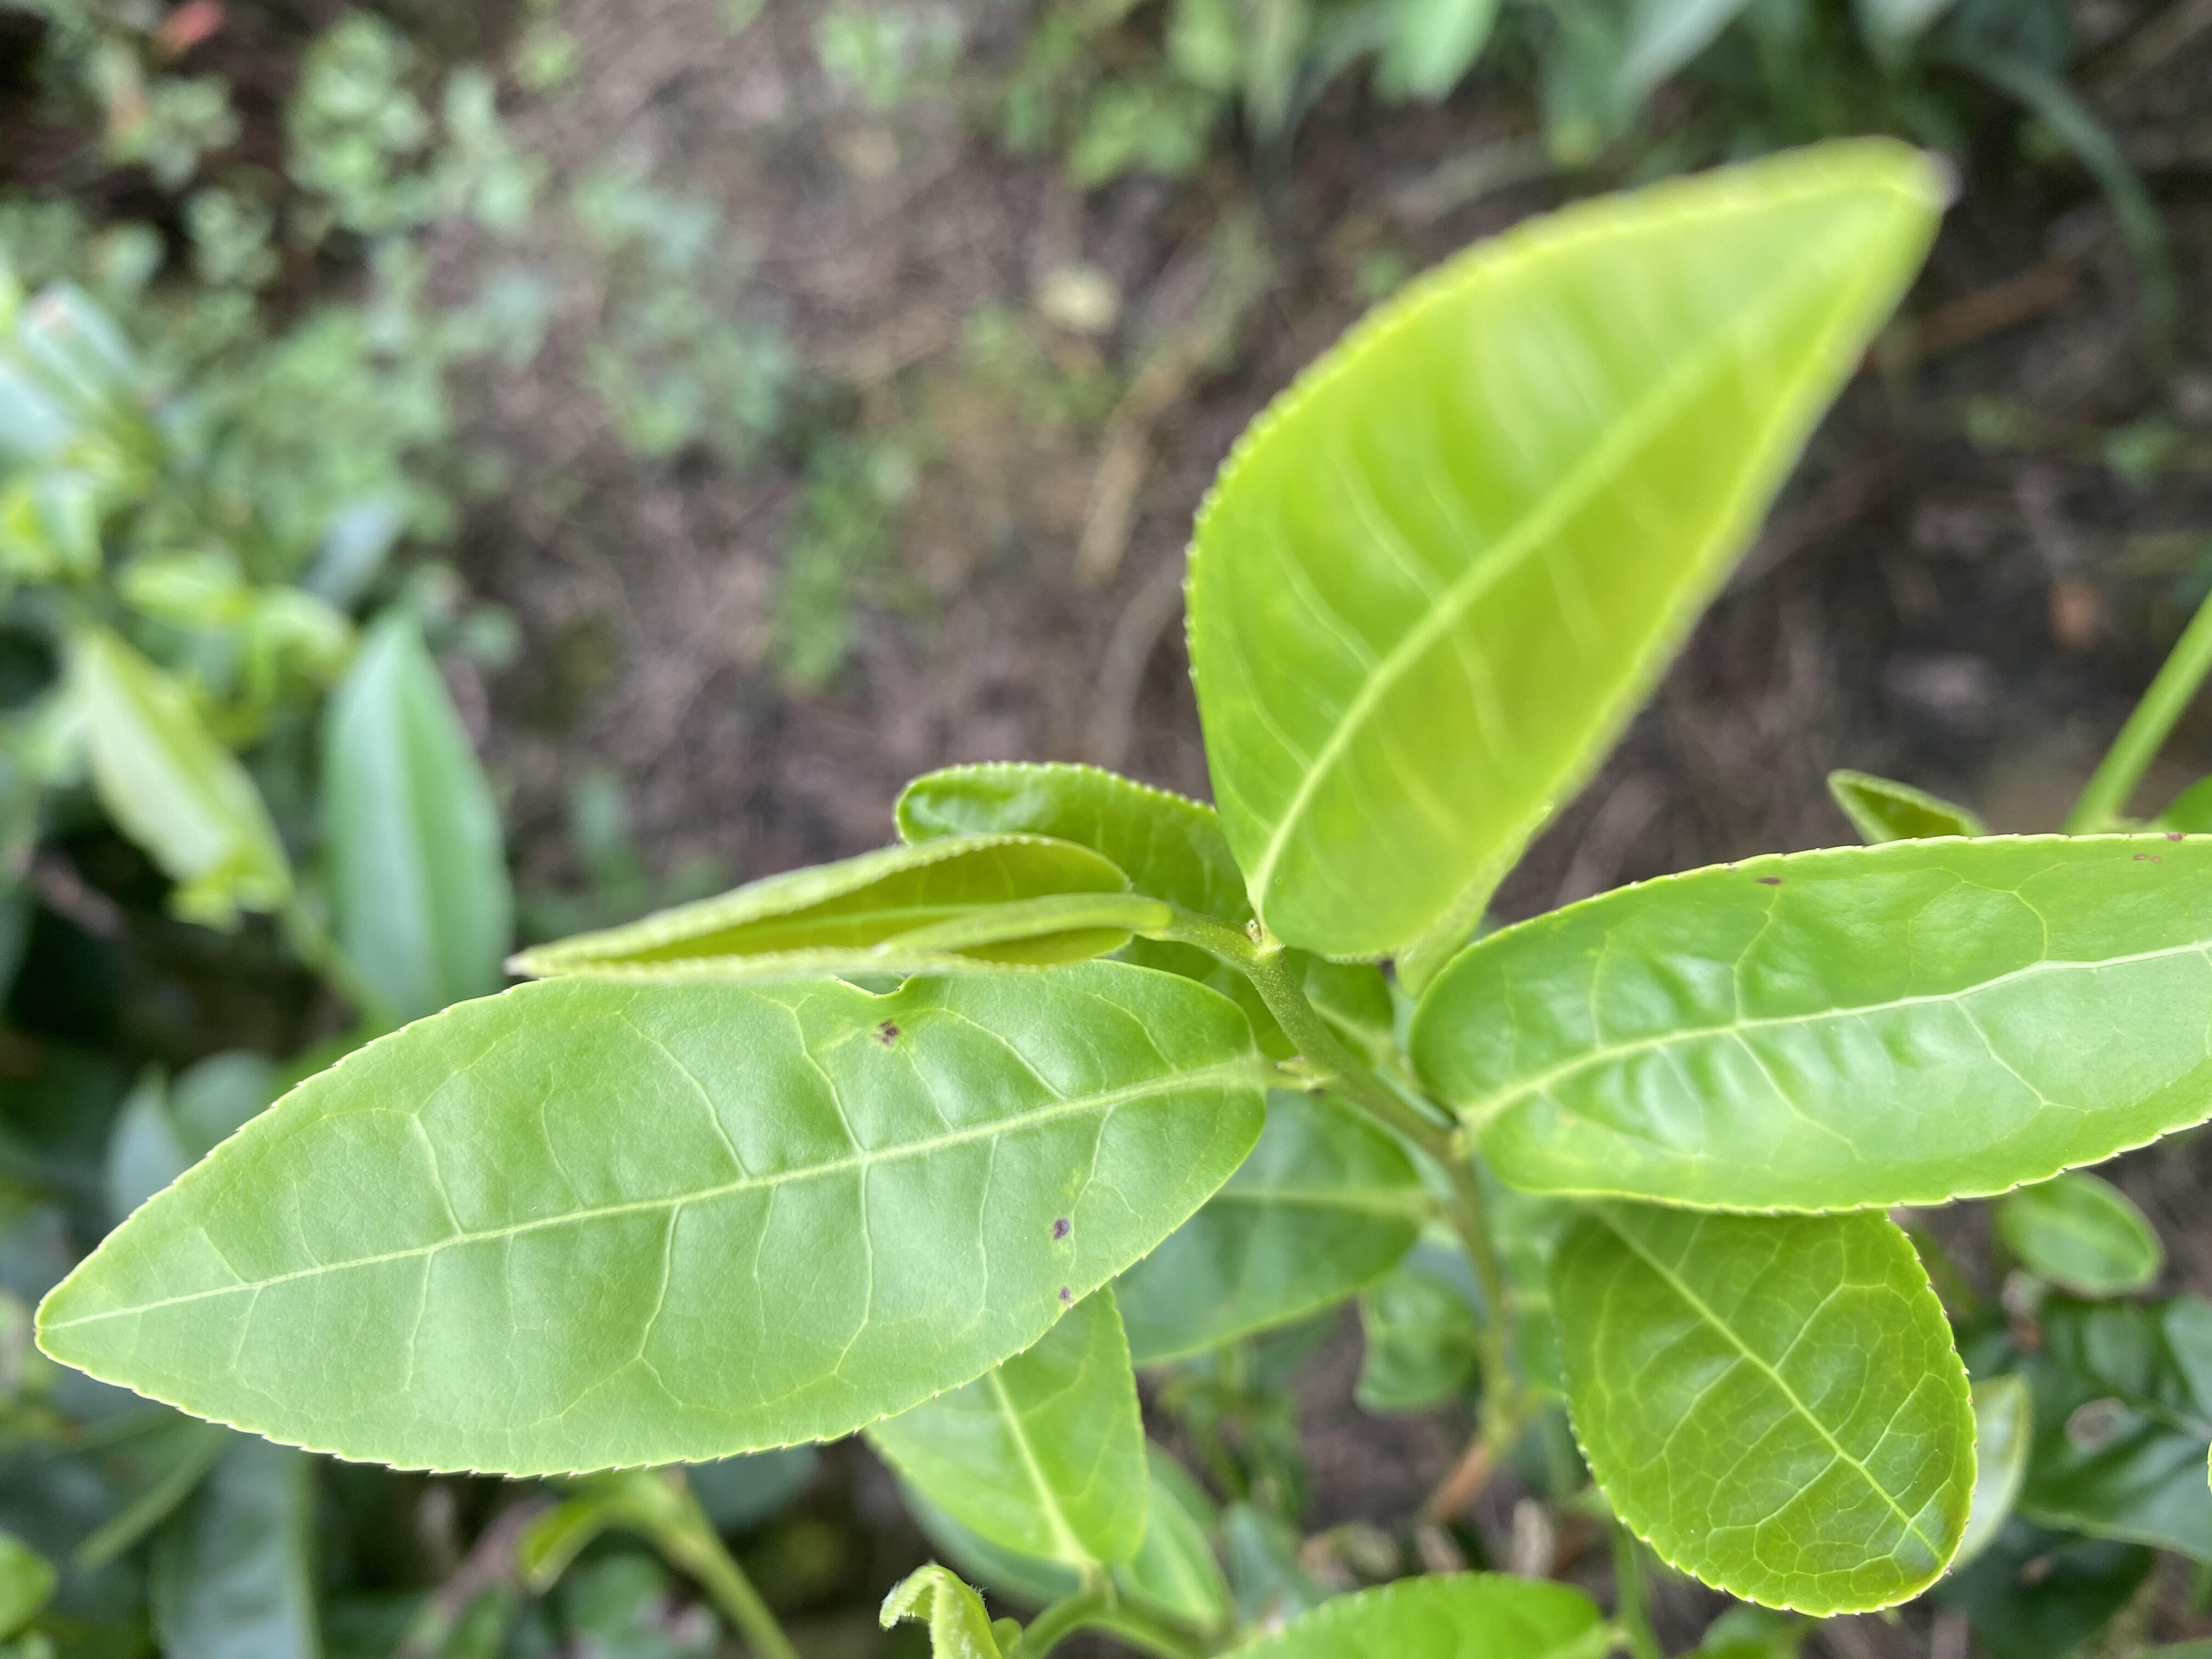healthy: (1186, 139, 1946, 951), (1545, 1190, 1979, 1617)
tanju_low: (30, 960, 1266, 1480), (1411, 828, 2207, 1213)
